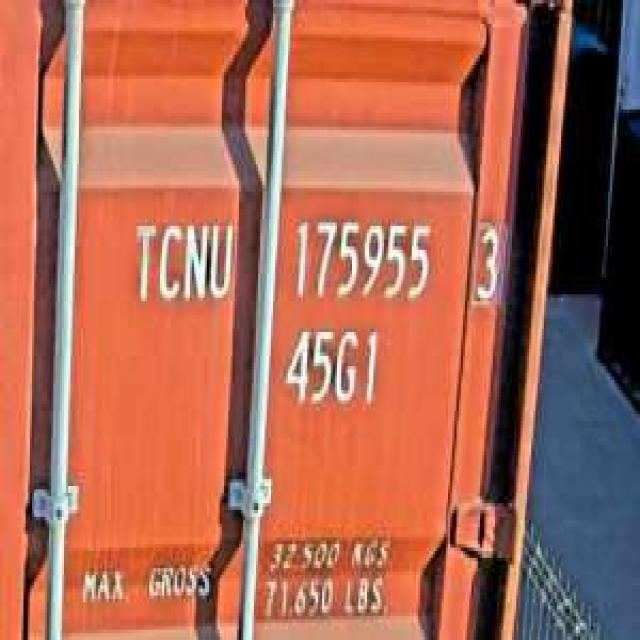dv: (467, 212, 504, 308)
owner: (130, 212, 237, 308)
serial: (286, 209, 435, 308)
size: (279, 315, 382, 414)
